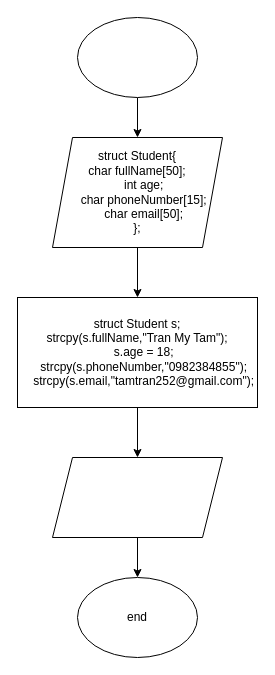
Some shapes in this 275 by 675 pixel diagram are drawn without their labels. The shapes that lost their labels are listed below. From the top down, each one's centre as x and y in pixels, then its label:
At point 137,57: "start".
At point 137,497: "printf s.fullName printf s.age printf s.phoneNumber printf s.email".
